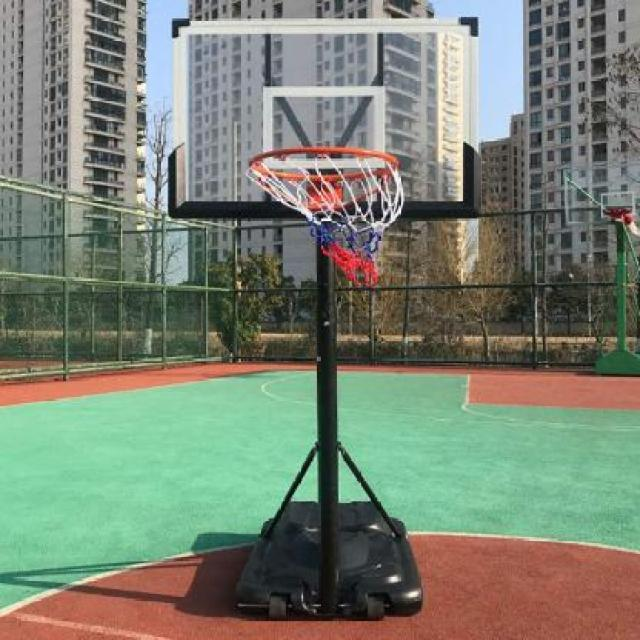rim: (249, 149, 406, 283)
